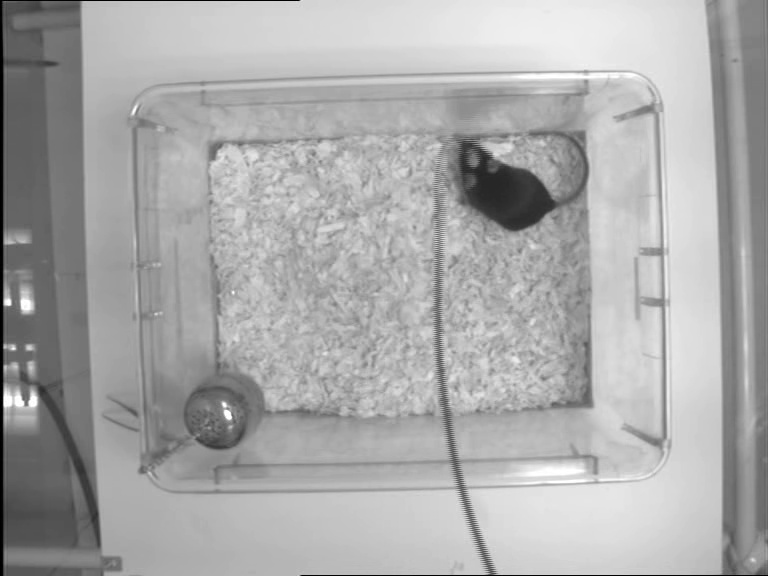mice: (455, 127, 592, 233)
